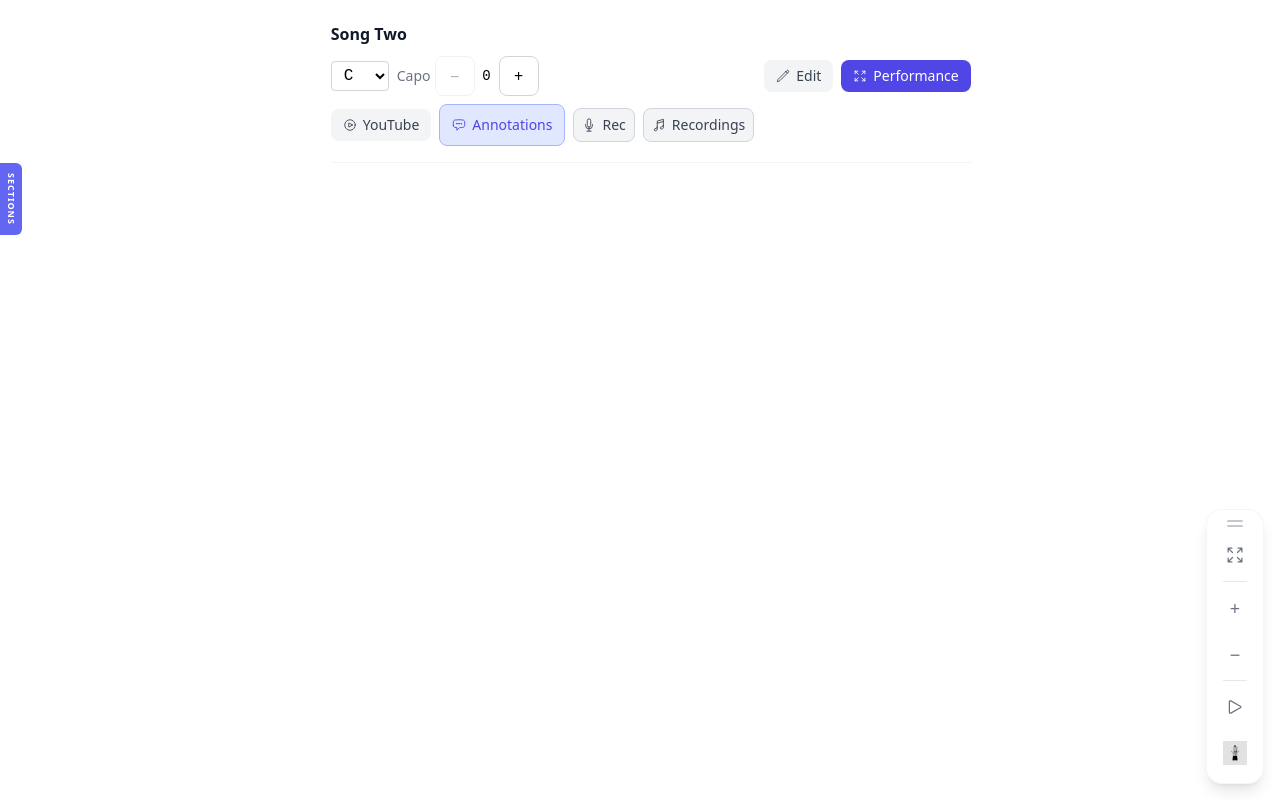
Test: MainContent maximize-mode pagination › paging backward from page 1 crosses to the previous song and lands on its last page
This screenshot has width=1280, height=800.
Click the button named "Fit song to screen". click: (1235, 555)
box: [1213,533,1257,577]
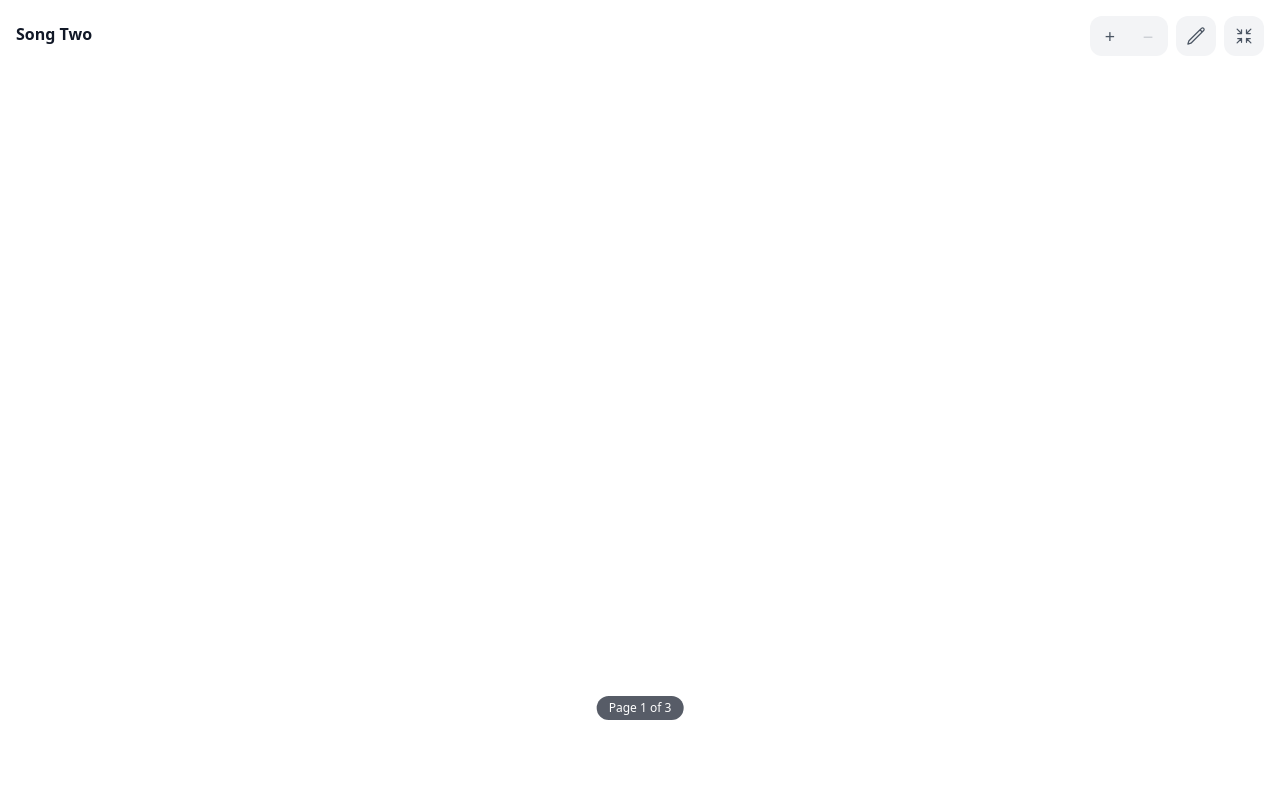
Check: the text with test id "page-indicator" reads "Page 1 of 3", box [597,696,683,720]
Press ArrowLeft
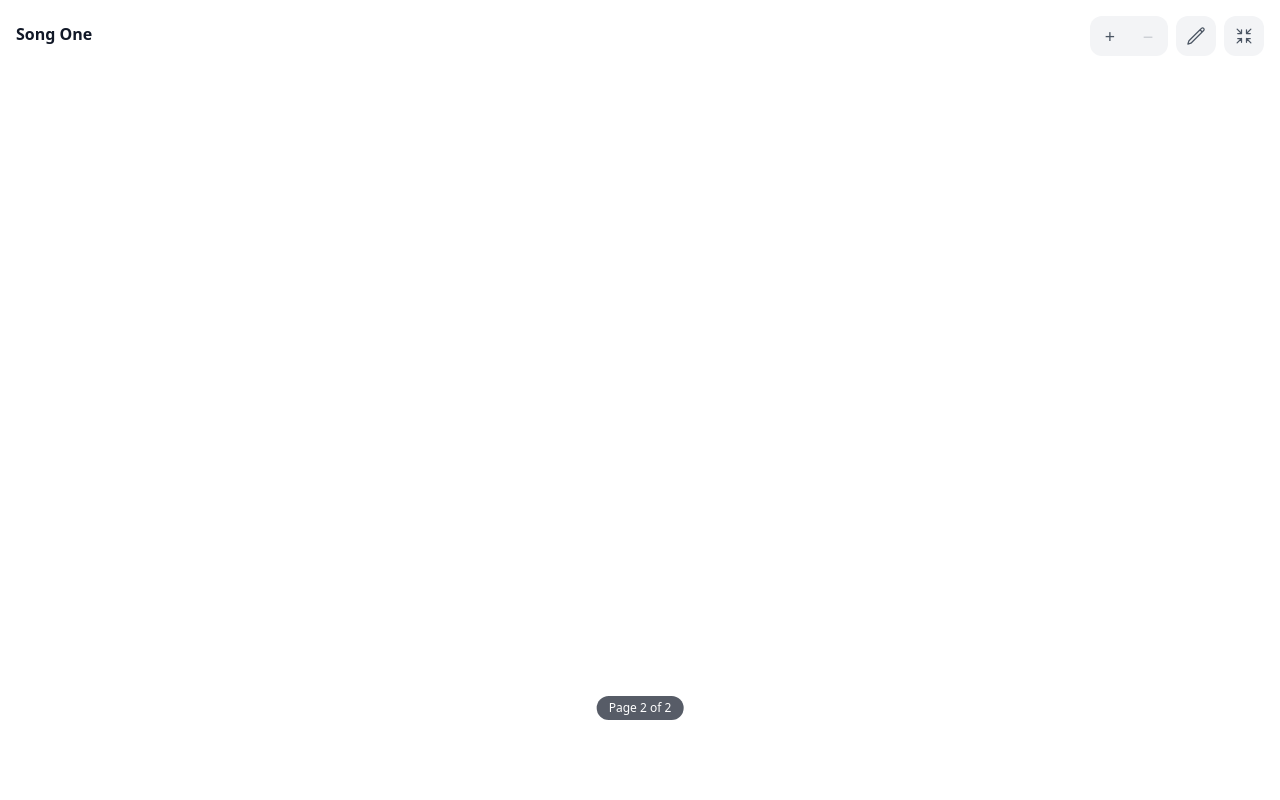
Check: the text with test id "page-indicator" reads "Page 2 of 2", box [597,696,683,720]
